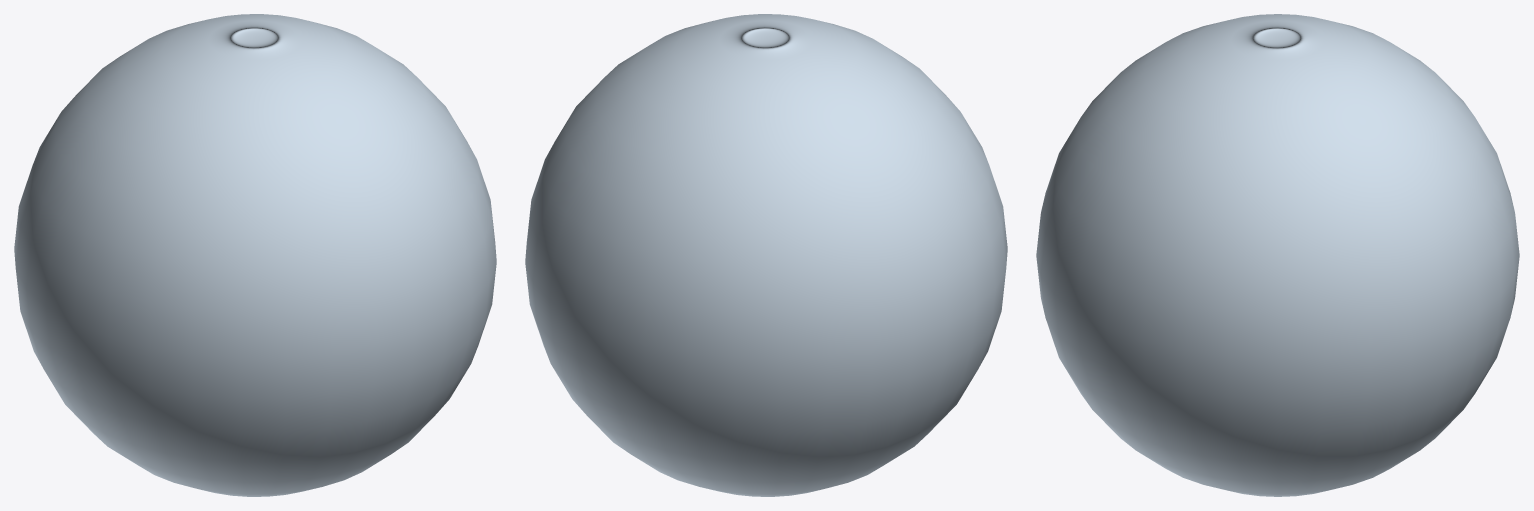
File: Ganyu_CelestialShowerState_State_IceSpiritPearl.fbx
The picture shows the model from 3 angles, left to right: view 1: azimuth 30°, elevation 25°; view 2: azimuth 150°, elevation 25°; view 3: azimuth 270°, elevation 25°; orthographic projection.
Visible parts, largest first — view 1: PART_GlazedIceSpiritPearl; view 2: PART_GlazedIceSpiritPearl; view 3: PART_GlazedIceSpiritPearl.
Boxes of the visible parts, x1,y1,x2,y2 form: PART_GlazedIceSpiritPearl: (14,14,496,496); PART_GlazedIceSpiritPearl: (525,14,1007,496); PART_GlazedIceSpiritPearl: (1036,14,1519,496).
Size of the model in its own units: 126 by 126 by 126.
